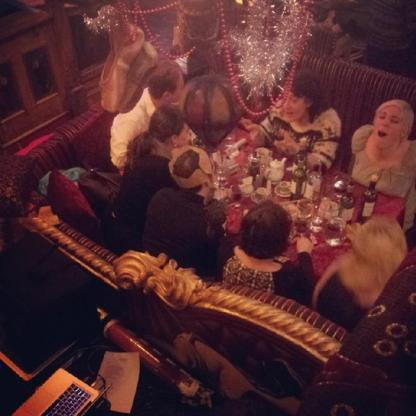board: (10, 369, 112, 415), (360, 174, 379, 220), (337, 180, 357, 222), (291, 155, 305, 200), (305, 163, 321, 201)
